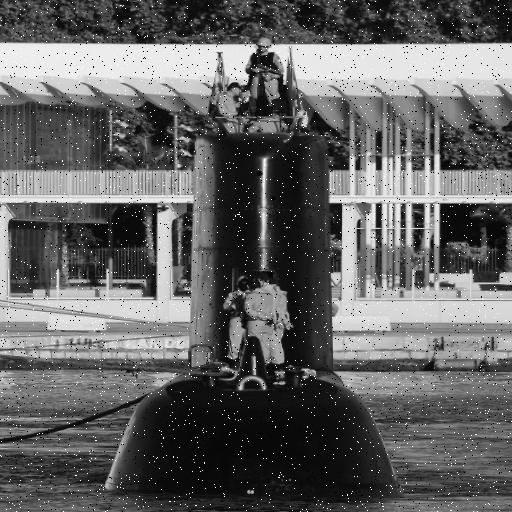submarine: (89, 12, 409, 499)
